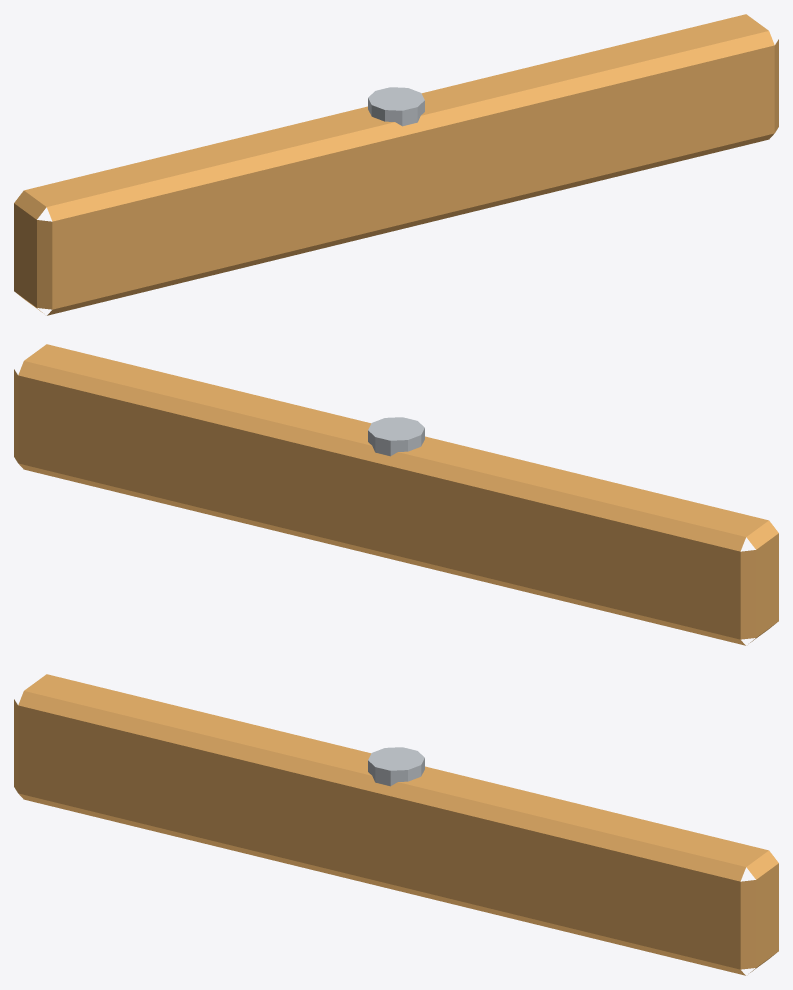
The model's file is spirit_level.glb.
The picture shows the model from 3 angles, top to bottom: view 1: azimuth 30°, elevation 25°; view 2: azimuth 150°, elevation 25°; view 3: azimuth 330°, elevation 25°; orthographic projection.
Parts seen in each view (by area): view 1: HousingAccent, MetalBody; view 2: HousingAccent, MetalBody; view 3: HousingAccent, MetalBody.
Boxes of the visible parts, x1,y1,x2,y2 form: HousingAccent: (14,14,778,315); MetalBody: (368,87,424,126); HousingAccent: (14,344,778,645); MetalBody: (368,417,424,456); HousingAccent: (14,674,778,975); MetalBody: (368,747,424,786).
Size of the model in its own units: 0.6 by 0.093 by 0.048.
